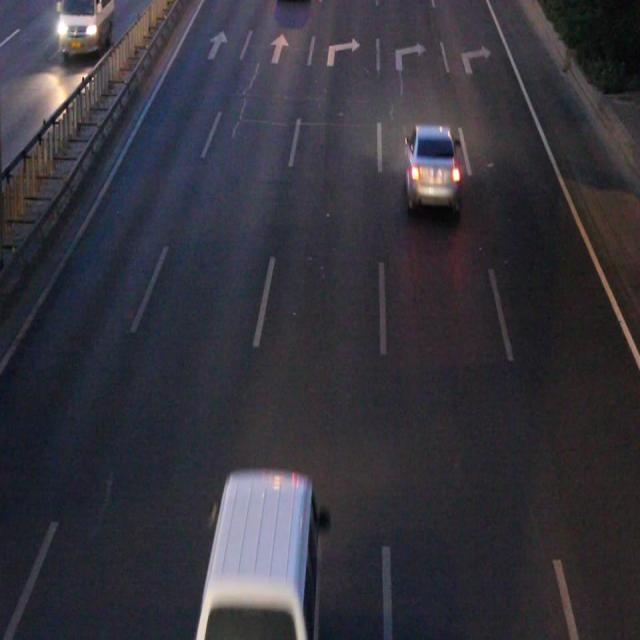car: (403, 126, 457, 208)
truck: (200, 473, 316, 640)
